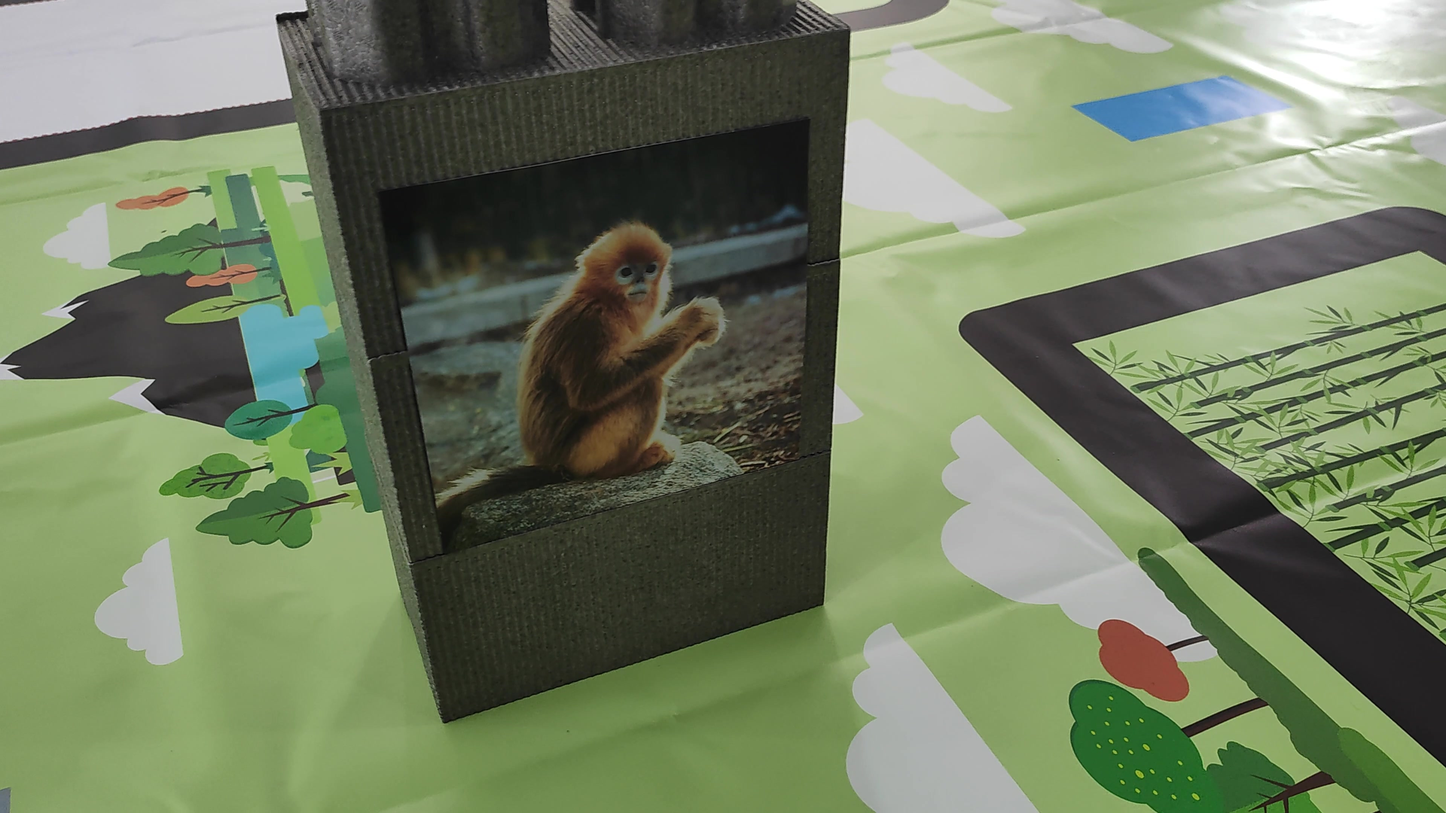monkey: (437, 217, 738, 536)
